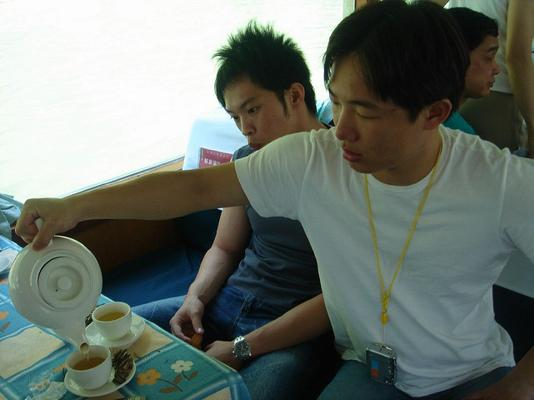person: (13, 3, 533, 400)
